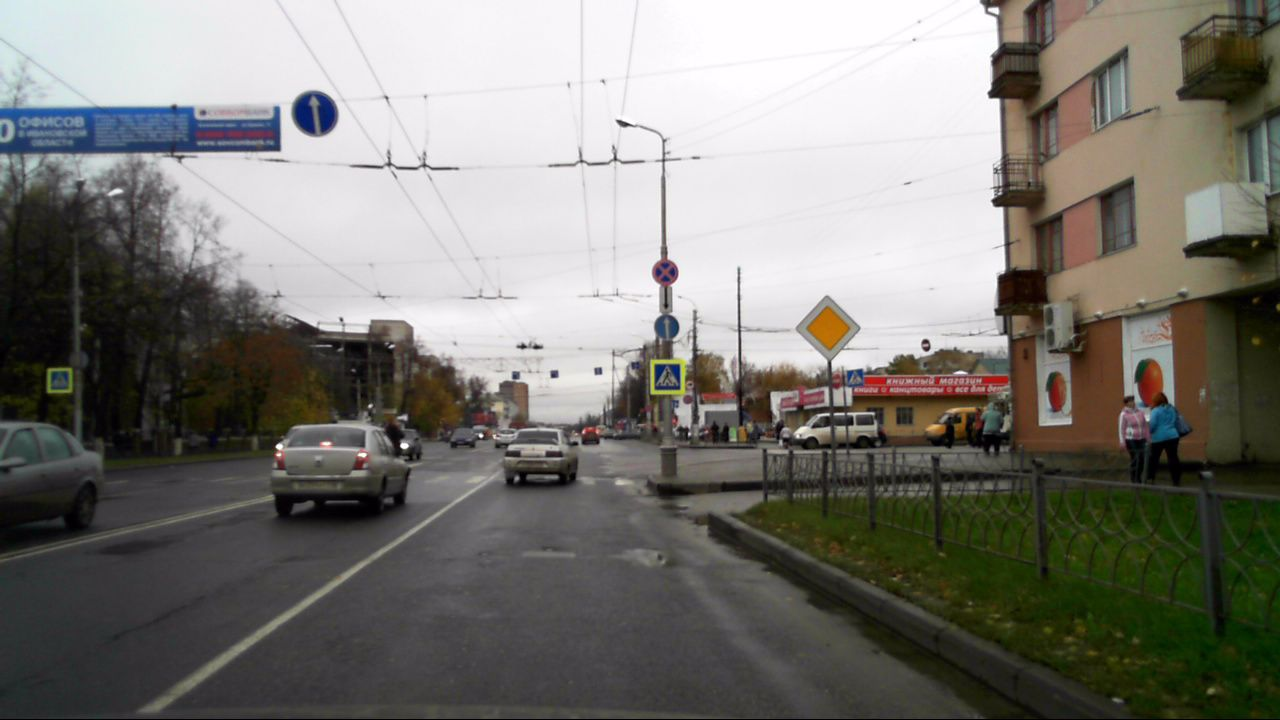No Parking: (651, 259, 678, 286)
